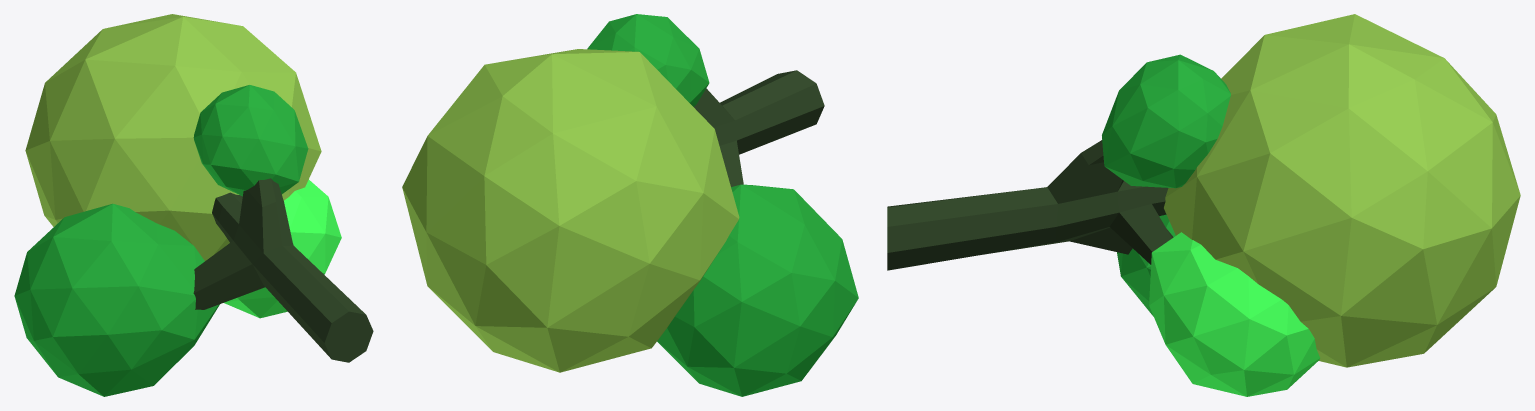
The model's file is OakTree_4.fbx.
3 renders of one model, left to right at view 1: azimuth 30°, elevation 25°; view 2: azimuth 150°, elevation 25°; view 3: azimuth 270°, elevation 25°, orthographic. The views are drawn at different scales.
Visible parts, largest first — view 1: OakTree_4; view 2: OakTree_4; view 3: OakTree_4.
Part boxes in pixels (box(x1,y1,x2,y2)): OakTree_4: box(14, 14, 373, 396); OakTree_4: box(402, 14, 858, 396); OakTree_4: box(887, 14, 1520, 396).
Size of the model in its own units: 474 by 430 by 692.
